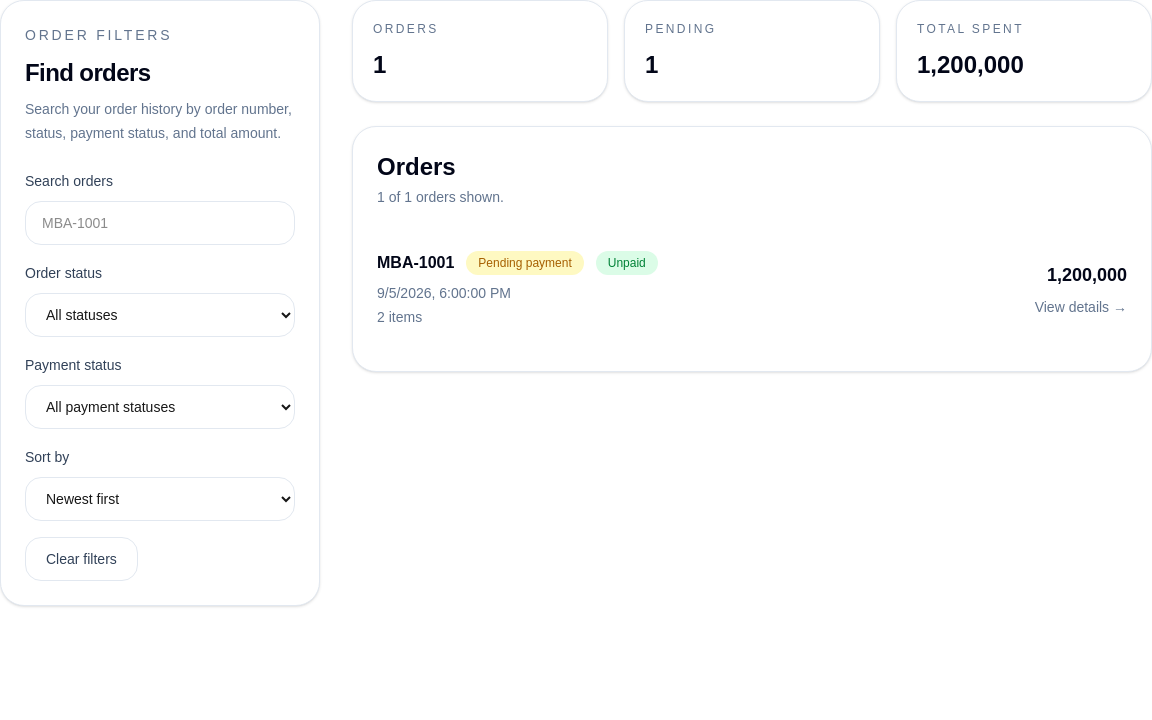
Scenario: OrdersList › shows empty filtered state
expect the heading "MBA-1001" is shown: met, box top-left (377, 251), bottom-right (454, 275)
Type "missing" into the field labelled "Search orders".
click(160, 223); type("missing")  # box top-left (25, 201), bottom-right (295, 245)
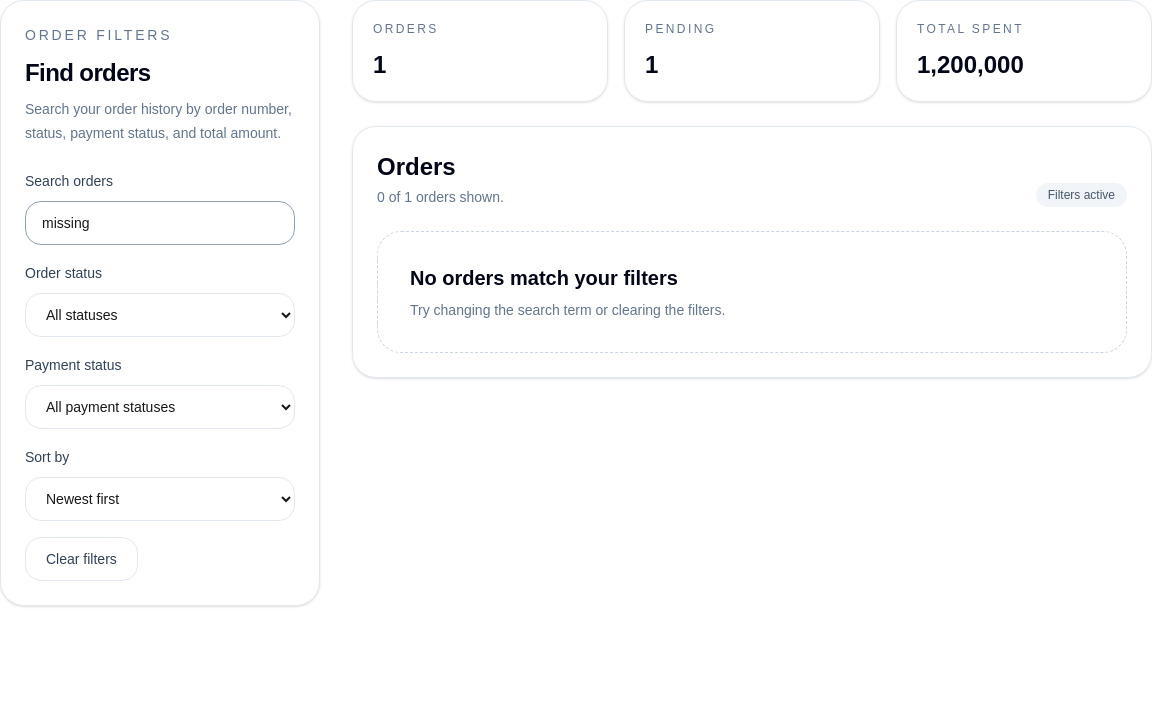
expect the heading "No orders match your filters" is shown: met, box top-left (410, 267), bottom-right (678, 289)
expect the text "Try changing the search term or clearing the filters." is shown: met, box top-left (410, 302), bottom-right (725, 318)
